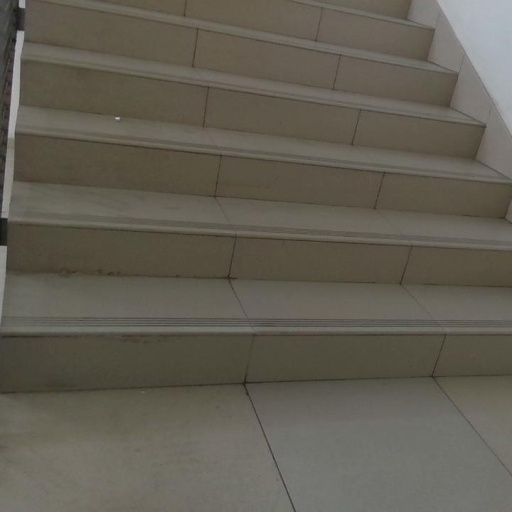Stairs: (0, 0, 512, 389)
